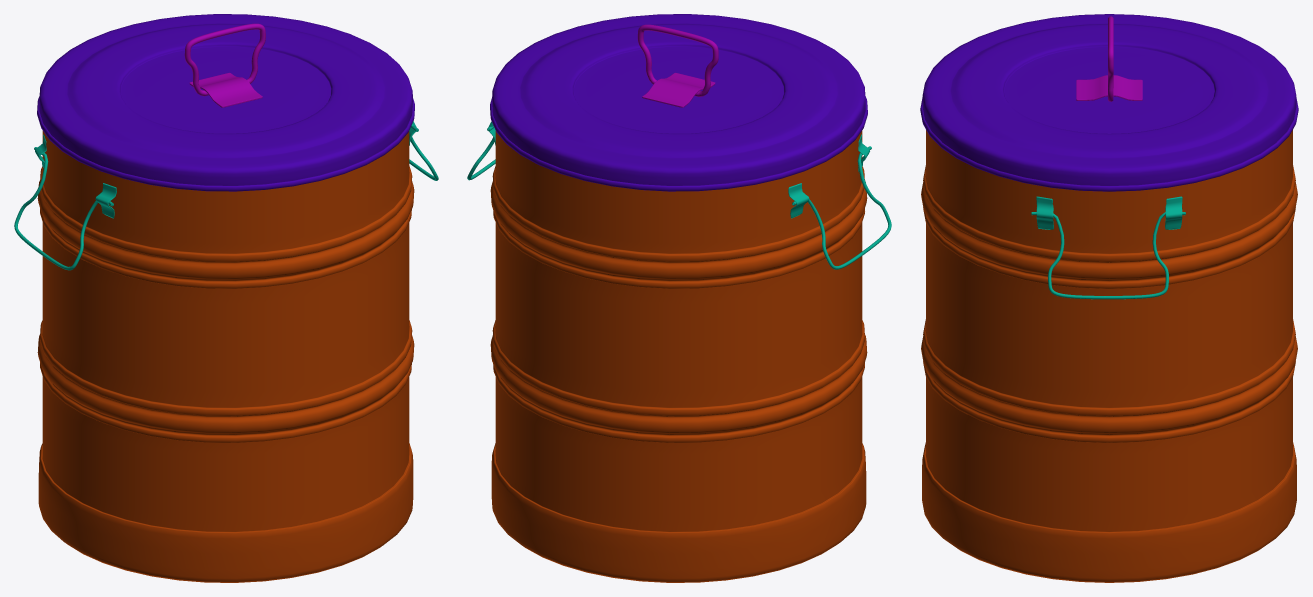
The model's file is tamale_steamer.fbx.
3 renders of one model, left to right at view 1: azimuth 30°, elevation 25°; view 2: azimuth 150°, elevation 25°; view 3: azimuth 270°, elevation 25°, orthographic.
Visible parts, largest first — view 1: pCylinder5, pCylinder6, pCube1, birchLimb2Main1, birchLimb2Main, pCylinder2; view 2: pCylinder5, pCylinder6, pCube1, birchLimb2Main1, birchLimb2Main, pCylinder2; view 3: pCylinder5, pCylinder6, pCube1, birchLimb2Main2, pCylinder7, birchLimb2Main1.
Boxes of the visible parts, x1,y1,x2,y2 form: pCylinder5: (37, 130, 414, 582); pCylinder6: (37, 14, 414, 191); pCube1: (189, 72, 262, 107); birchLimb2Main1: (184, 23, 265, 96); birchLimb2Main: (14, 147, 113, 270); pCylinder2: (35, 134, 116, 218); pCylinder5: (490, 130, 867, 582); pCylinder6: (490, 14, 867, 191); pCube1: (642, 72, 715, 107); birchLimb2Main1: (637, 24, 718, 96); birchLimb2Main: (792, 146, 891, 269); pCylinder2: (788, 134, 869, 218); pCylinder5: (921, 130, 1297, 582); pCylinder6: (920, 14, 1298, 191); pCube1: (1076, 75, 1142, 100); birchLimb2Main2: (1031, 212, 1185, 299); pCylinder7: (1036, 196, 1182, 229); birchLimb2Main1: (1108, 16, 1113, 101).
Bounding box in the file's own units: 4.43 × 5.42 × 3.9.
